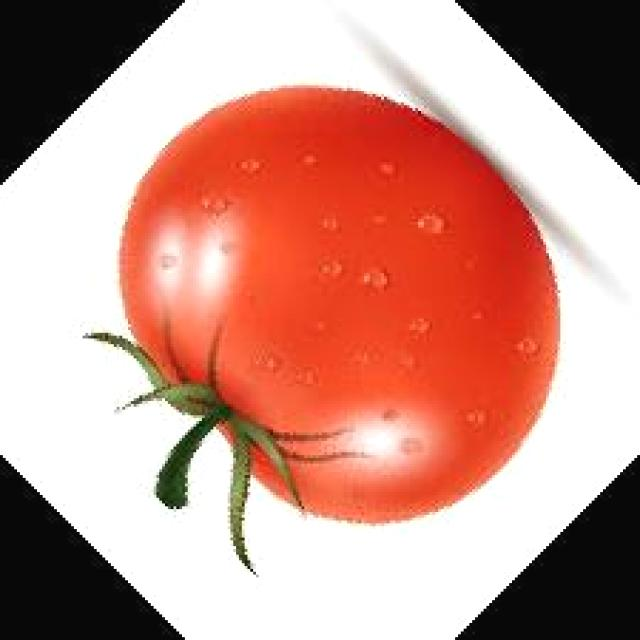tomato: (116, 81, 568, 526)
